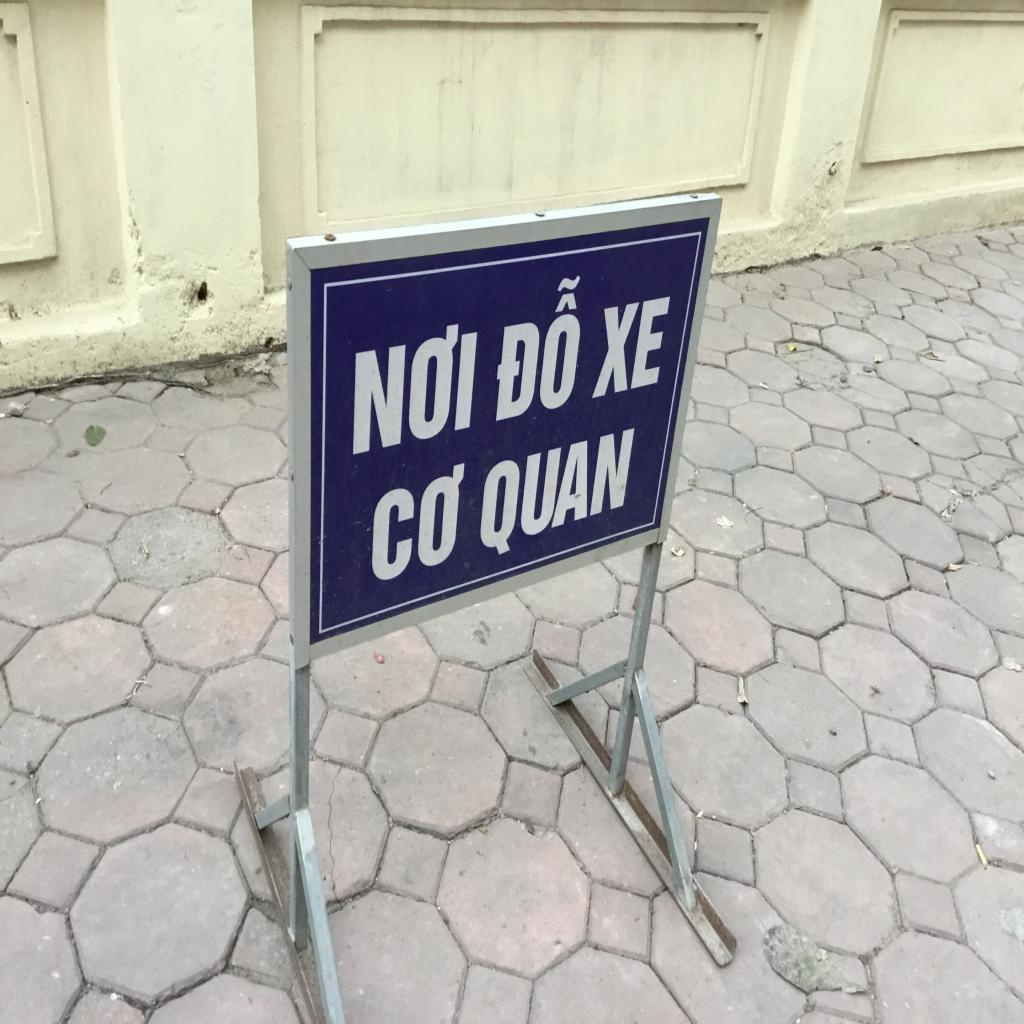text: (347, 321, 480, 458), (492, 272, 585, 428), (366, 455, 467, 585), (588, 290, 672, 404)
